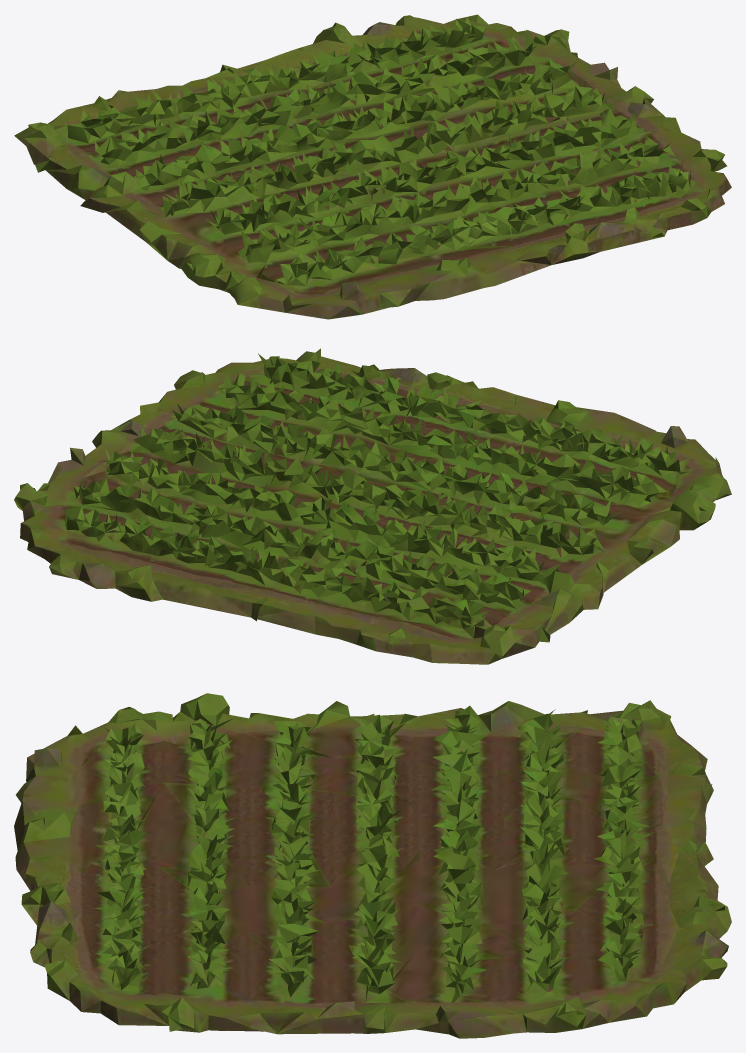
File: emerald-crop-field.glb
3 renders of one model, top to bottom at view 1: azimuth 30°, elevation 25°; view 2: azimuth 150°, elevation 25°; view 3: azimuth 270°, elevation 25°, orthographic. The views are drawn at different scales.
Parts seen in each view (by area): view 1: output_unwrapped; view 2: output_unwrapped; view 3: output_unwrapped.
Boxes of the visible parts, x1=… form: output_unwrapped: x1=14, y1=14, x2=731, y2=319; output_unwrapped: x1=14, y1=348, x2=731, y2=664; output_unwrapped: x1=14, y1=693, x2=731, y2=1038.
Size of the model in its own units: 1.89 by 0.1251 by 1.79.
1 material, 1 textured.
